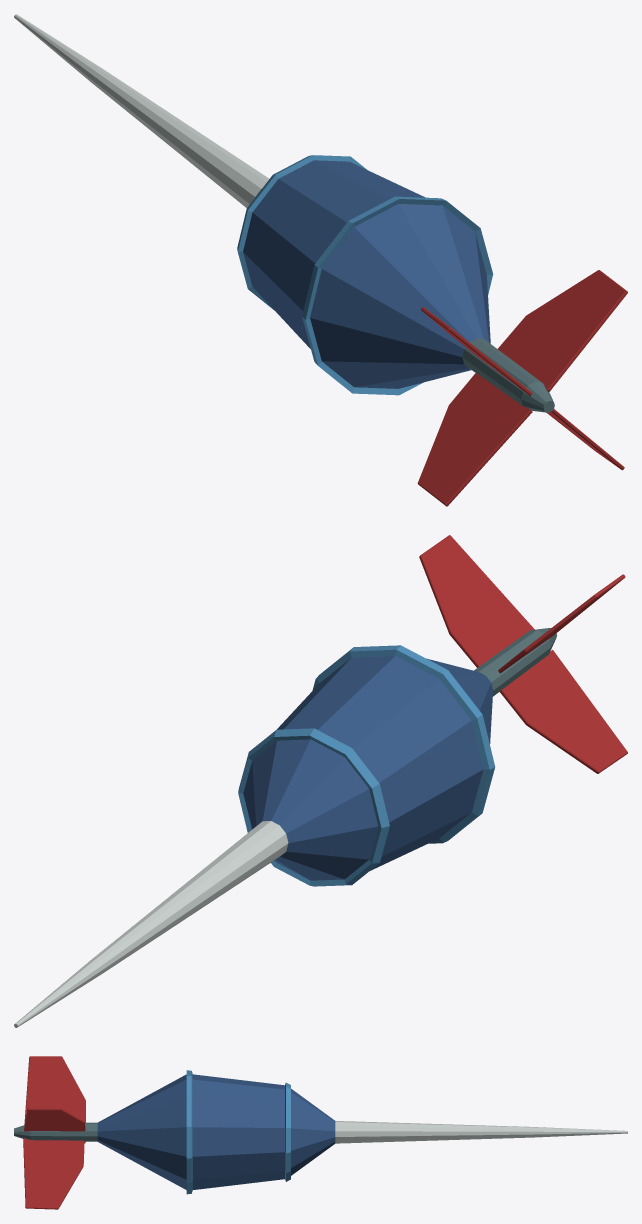
File: Dart.fbx
3 views of the same model, one above another, from view 1: azimuth 30°, elevation 25°; view 2: azimuth 150°, elevation 25°; view 3: azimuth 270°, elevation 25° (orthographic). The views are drawn at different scales.
Visible parts, largest first — view 1: Dart; view 2: Dart; view 3: Dart.
Part boxes in pixels (box(x1,y1,x2,y2)): Dart: box(14, 14, 627, 506); Dart: box(14, 535, 627, 1027); Dart: box(14, 1056, 627, 1209).
Size of the model in its own units: 195 by 195 by 959.
Materials: 1 (1 with a texture image).
